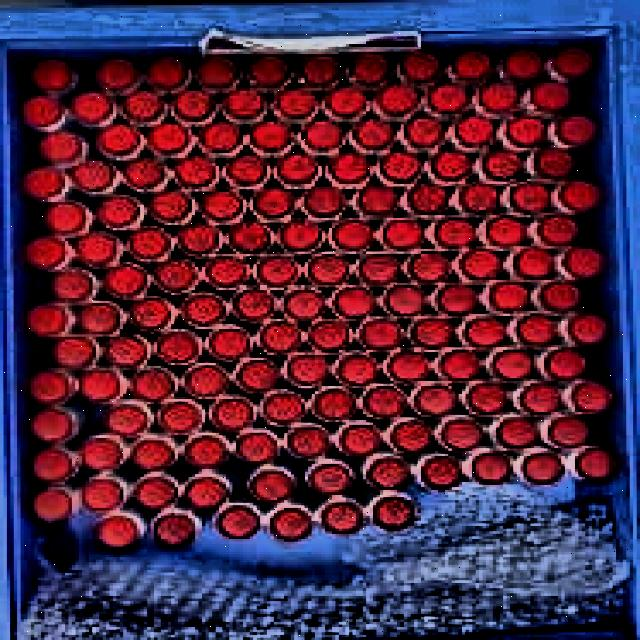vial: (267, 504, 315, 543), (97, 512, 142, 551), (562, 244, 610, 280), (95, 123, 144, 158), (216, 504, 262, 541), (153, 510, 199, 547), (40, 199, 88, 234), (185, 474, 229, 512), (29, 446, 73, 484), (234, 429, 280, 465), (570, 379, 616, 415), (26, 368, 72, 404), (566, 311, 613, 346), (283, 353, 331, 387), (366, 456, 412, 491), (406, 250, 453, 284), (521, 451, 565, 487), (284, 424, 329, 459), (29, 408, 75, 442), (519, 383, 566, 416), (235, 358, 279, 393), (82, 437, 126, 472), (251, 469, 296, 503), (390, 420, 435, 454), (71, 159, 116, 193), (147, 121, 192, 155), (542, 348, 591, 379), (310, 464, 356, 497), (439, 419, 485, 452), (464, 382, 510, 415), (102, 265, 148, 298), (32, 489, 74, 525), (156, 258, 198, 294), (131, 438, 174, 473), (348, 51, 391, 86), (384, 350, 431, 382), (204, 256, 251, 288), (339, 423, 383, 457), (185, 436, 229, 470), (133, 477, 178, 510), (23, 237, 68, 270), (146, 188, 191, 221), (80, 369, 125, 402), (302, 119, 347, 152), (96, 54, 137, 90), (330, 220, 376, 252), (483, 216, 529, 248), (24, 165, 66, 200), (305, 183, 347, 218), (561, 178, 603, 213), (372, 495, 415, 529), (197, 55, 240, 89), (176, 224, 223, 255), (320, 501, 364, 534), (458, 181, 502, 214), (254, 255, 299, 287), (121, 157, 166, 189), (479, 81, 524, 113), (81, 478, 123, 512), (550, 415, 592, 449), (353, 117, 395, 151), (487, 282, 533, 313), (18, 96, 64, 127), (263, 390, 306, 423), (438, 349, 481, 382), (459, 248, 502, 281), (76, 233, 119, 266), (200, 188, 243, 221), (377, 83, 420, 116), (184, 365, 228, 397), (208, 328, 252, 360), (516, 314, 560, 346), (537, 214, 581, 246), (49, 269, 93, 301), (199, 120, 243, 152), (449, 49, 493, 81), (306, 255, 351, 286), (336, 353, 377, 387), (314, 389, 356, 422), (184, 294, 226, 327), (53, 337, 95, 370), (233, 289, 276, 321), (284, 290, 327, 322), (251, 120, 294, 152), (147, 54, 186, 89), (25, 304, 69, 335), (251, 53, 291, 87), (576, 449, 617, 482), (213, 397, 254, 430), (31, 58, 72, 91), (278, 151, 319, 184), (174, 155, 215, 188), (37, 132, 82, 162), (470, 452, 512, 484), (363, 387, 405, 419), (382, 219, 424, 251), (130, 229, 172, 261), (99, 196, 141, 228), (253, 187, 295, 219), (225, 155, 267, 187), (534, 146, 576, 178), (539, 282, 585, 311), (421, 457, 460, 491), (381, 149, 420, 183), (515, 247, 555, 280), (124, 89, 164, 122), (327, 84, 367, 117), (429, 80, 469, 113), (494, 349, 535, 381), (260, 323, 301, 355), (360, 318, 401, 350), (334, 287, 375, 319), (434, 218, 475, 250), (130, 298, 171, 330), (71, 90, 112, 122), (300, 54, 341, 86), (506, 116, 547, 148), (358, 253, 400, 284), (227, 223, 269, 254), (134, 370, 176, 401), (78, 303, 120, 334), (276, 88, 318, 119), (510, 182, 552, 213), (431, 151, 473, 182), (465, 318, 508, 348), (436, 284, 479, 314), (359, 183, 398, 216), (224, 86, 263, 119), (415, 385, 455, 417), (278, 223, 322, 252), (103, 407, 147, 436), (308, 320, 349, 351), (157, 331, 198, 362), (497, 419, 539, 449), (107, 335, 145, 368), (531, 80, 571, 111), (385, 286, 426, 316), (161, 403, 202, 433), (408, 185, 449, 215), (174, 87, 212, 119), (331, 152, 370, 183), (482, 151, 522, 181), (503, 49, 543, 79), (555, 45, 592, 77), (403, 51, 442, 80), (407, 118, 443, 149), (559, 115, 595, 146), (456, 117, 493, 147), (413, 319, 450, 348)
